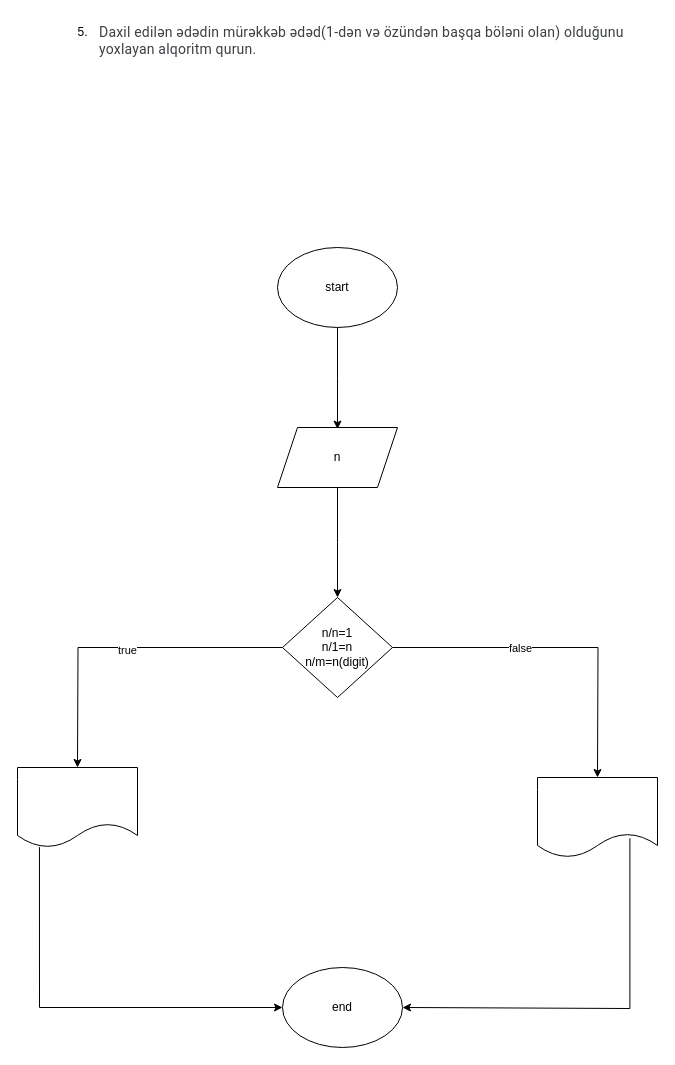
Image size: 675x1065. Some labels were removed from this diagram. The centre of each missing label's shape, as x and y in pixels:
"eded murekkebdir" belongs at (597,817).
"eded sadedir" belongs at (77,807).
